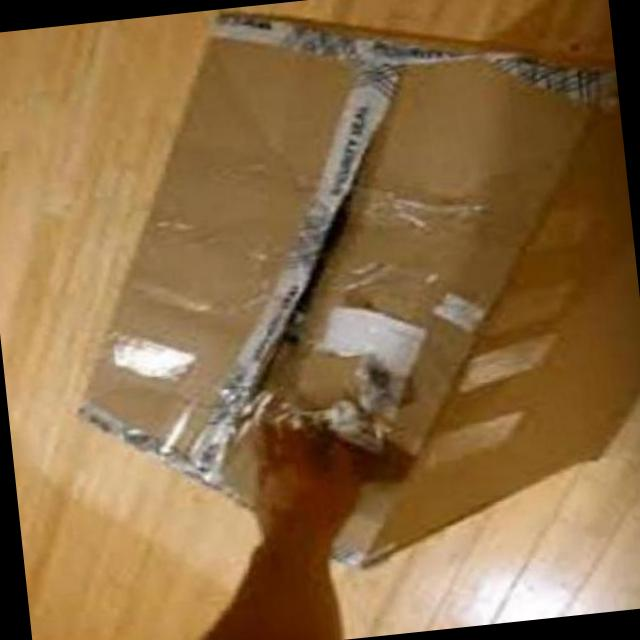box: (42, 0, 640, 601)
